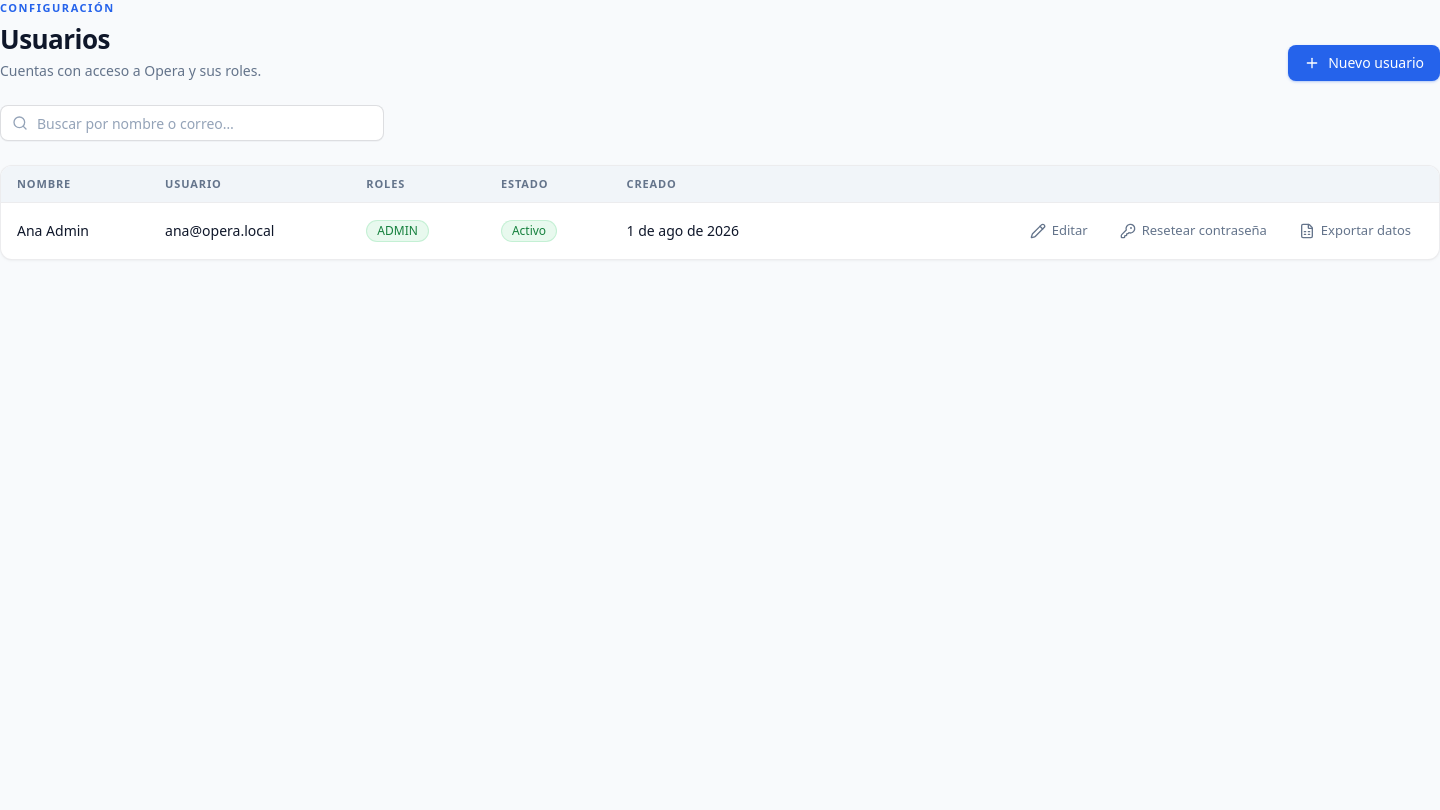
UsersPage › opens and closes the reset-password modal for a given user
Expected: the text "Ana Admin" is shown, top-left (1, 202), bottom-right (149, 259)
What coordinates should you click on to do the following:
click the button "Resetear contraseña"
I would click on:
 (1193, 231)
Its box is top-left (1108, 215), bottom-right (1279, 247).
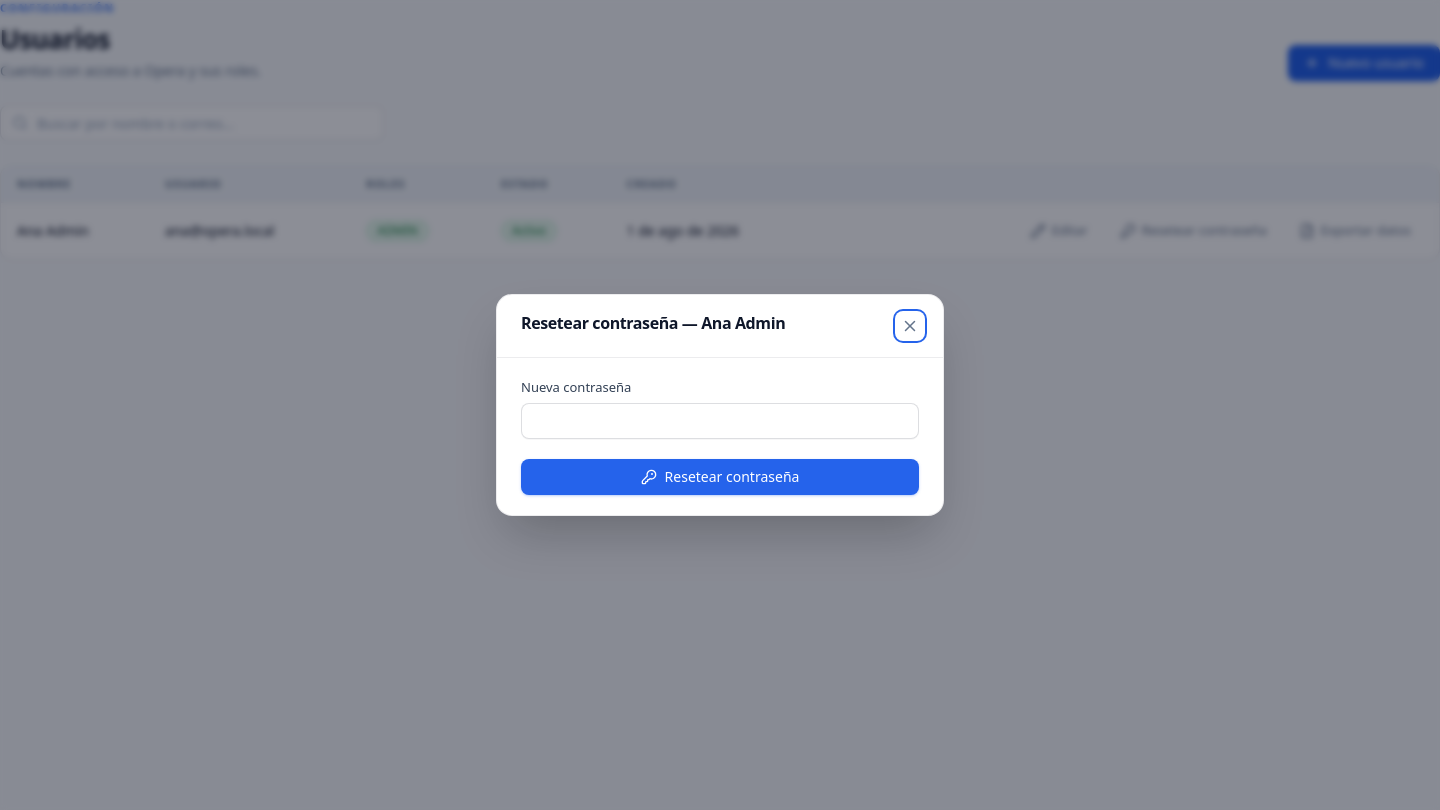
Now the dialog "Resetear contraseña — Ana Admin" is shown, box top-left (496, 294), bottom-right (944, 516)
What coordinates should you click on to do the following:
click the button named "Cerrar"
I would click on:
 (910, 326)
Its box is top-left (895, 311), bottom-right (925, 341).
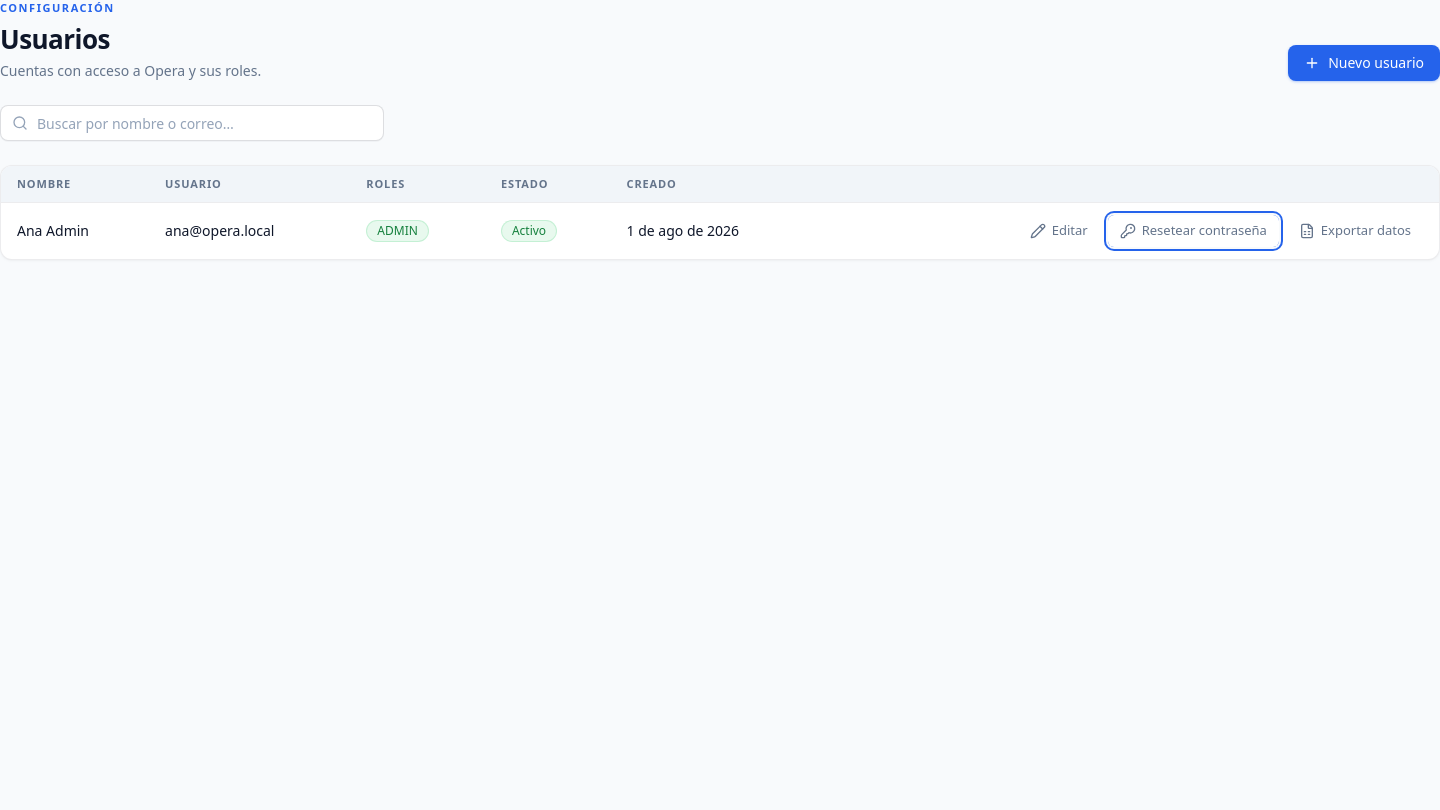
Now the heading "Resetear contraseña — Ana Admin" is gone
